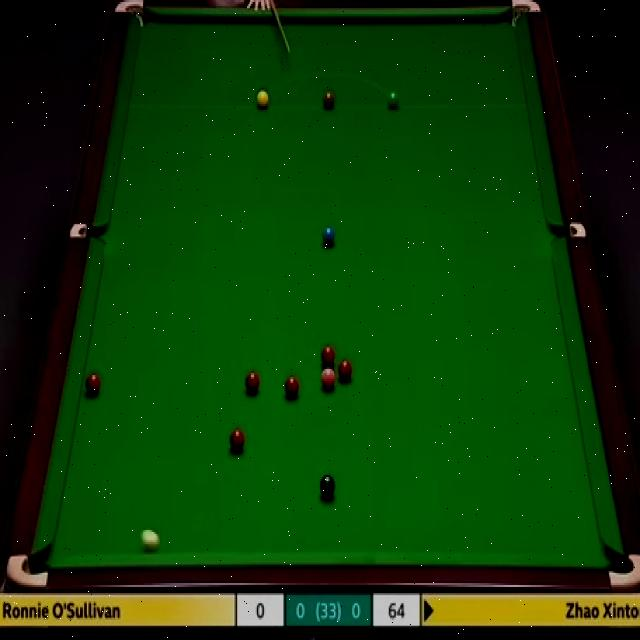black-ball: (320, 474, 336, 500)
blue-ball: (323, 225, 336, 248)
brown-ball: (322, 91, 335, 110)
green-ball: (387, 89, 400, 113)
pink-ball: (322, 367, 336, 390)
red-ball: (245, 370, 261, 398), (284, 374, 300, 402), (338, 359, 355, 385), (229, 428, 246, 453), (85, 371, 100, 398), (322, 343, 336, 369)
white-ball: (139, 528, 160, 556)
yellow-ball: (257, 88, 269, 109)
